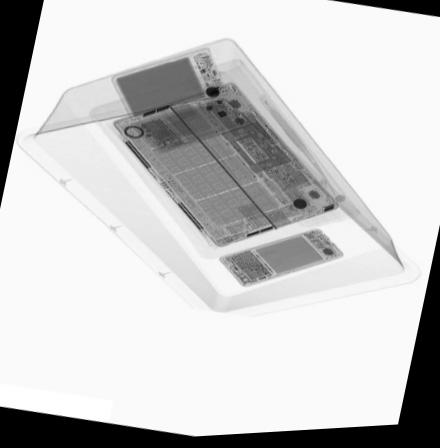Powerbank: (115, 53, 228, 115)
